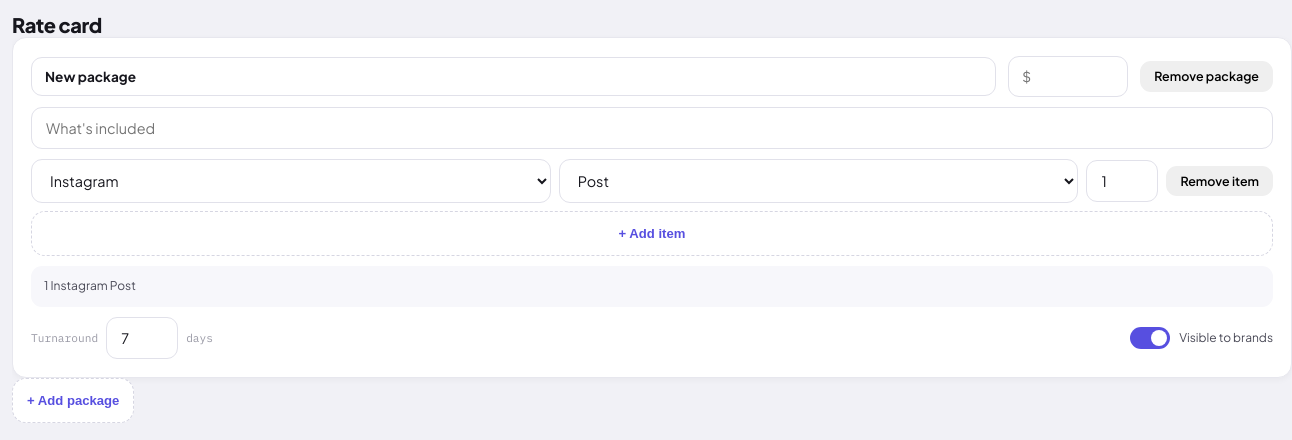
Test case: removing the last item leaves the package present with zero items
Expected: the number of elements with test id "rate-item" is 1, x1=31 y1=159 x2=1273 y2=203
Click the button "Remove item" at (1220, 181), box x1=1166 y1=166 x2=1273 y2=196
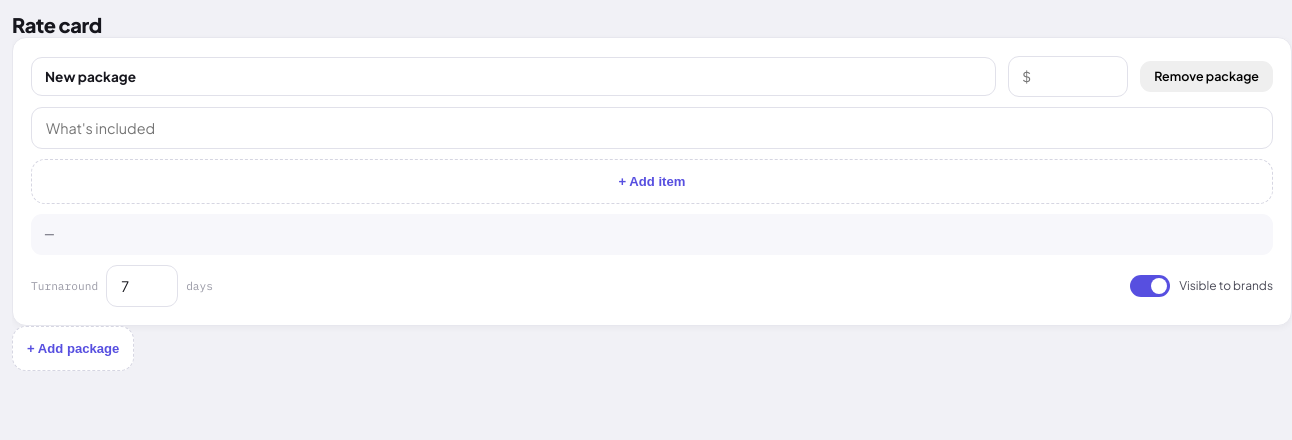
Now no elements with test id "rate-item" are shown
